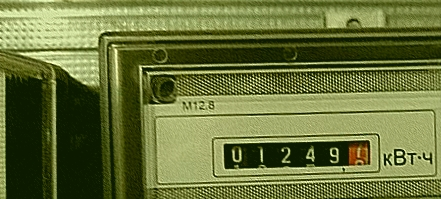0: (231, 144, 245, 165)
1: (256, 145, 267, 164)
2: (280, 145, 294, 166)
4: (305, 145, 317, 164)
7: (354, 141, 366, 160)
9: (328, 145, 342, 167)
screen: (205, 131, 381, 179)
